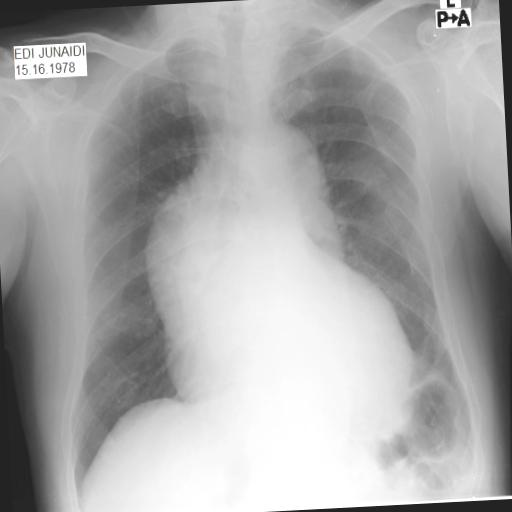kardiomegali: (42, 16, 494, 512)
